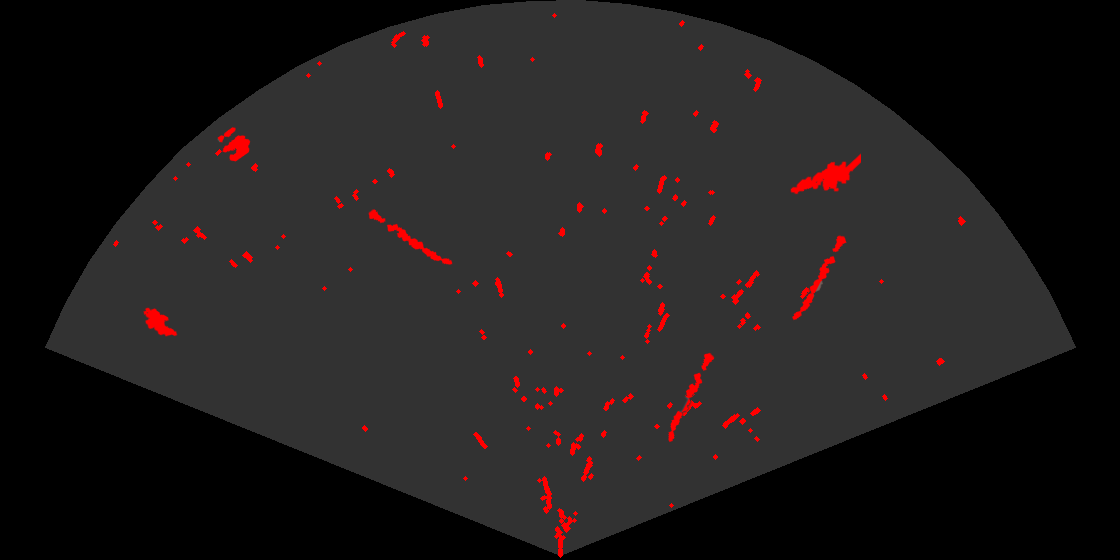AUV: (142, 306, 179, 338)
ball: (216, 126, 252, 163)
chain: (367, 208, 454, 266), (791, 234, 848, 321), (667, 351, 716, 443)
frogman: (789, 152, 861, 196)
